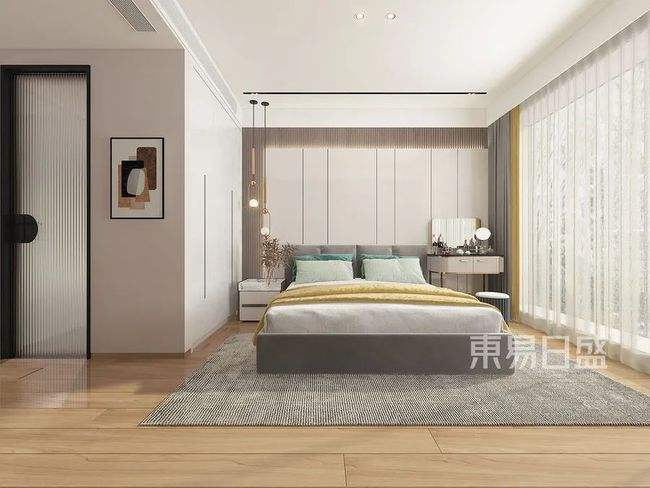床: (265, 280, 511, 381)
枕头: (292, 251, 432, 288)
灯: (243, 95, 273, 243), (351, 8, 368, 23), (383, 11, 400, 25)
